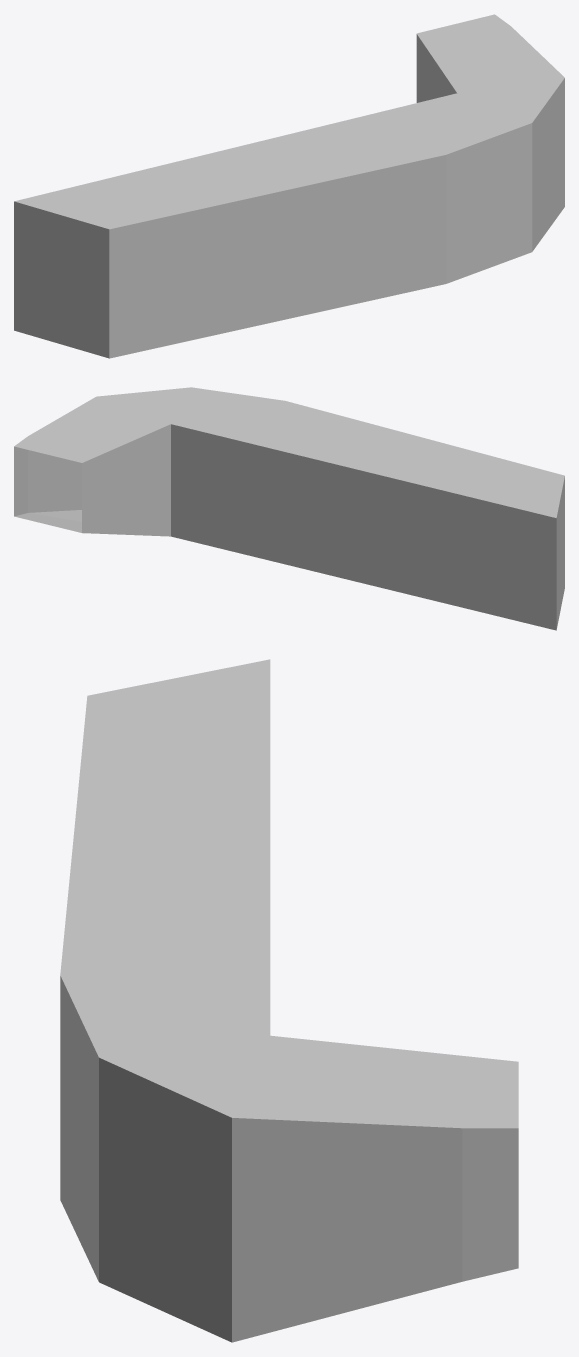
File: Door Handle 1.fbx
3 renders of one model, top to bottom at view 1: azimuth 30°, elevation 25°; view 2: azimuth 150°, elevation 25°; view 3: azimuth 270°, elevation 25°, orthographic. The views are drawn at different scales.
Visible parts, largest first — view 1: Door Handle 1; view 2: Door Handle 1; view 3: Door Handle 1.
Boxes of the visible parts, x1,y1,x2,y2 form: Door Handle 1: (14,14,564,358); Door Handle 1: (14,387,564,630); Door Handle 1: (60,659,518,1342).
Size of the model in its own units: 22.09 by 4.94 by 9.13.
